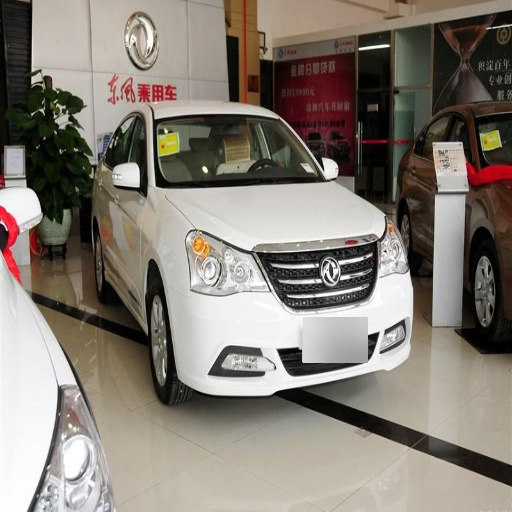front_bumper: (168, 238, 411, 395)
front_left_light: (380, 226, 408, 276)
front_right_door: (115, 115, 152, 300)
front_right_light: (185, 228, 266, 295)
hood: (171, 182, 386, 253)
